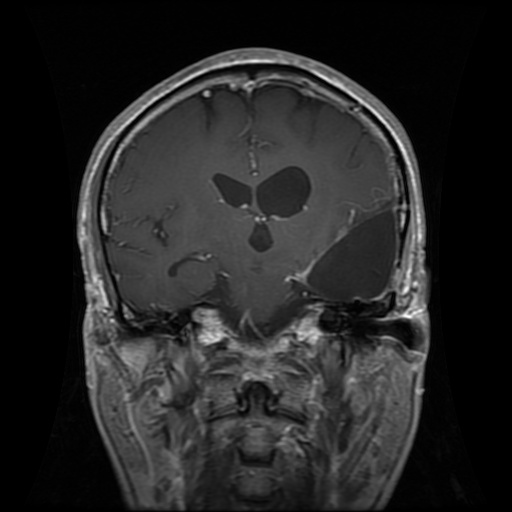glioma: (287, 183, 401, 302)
